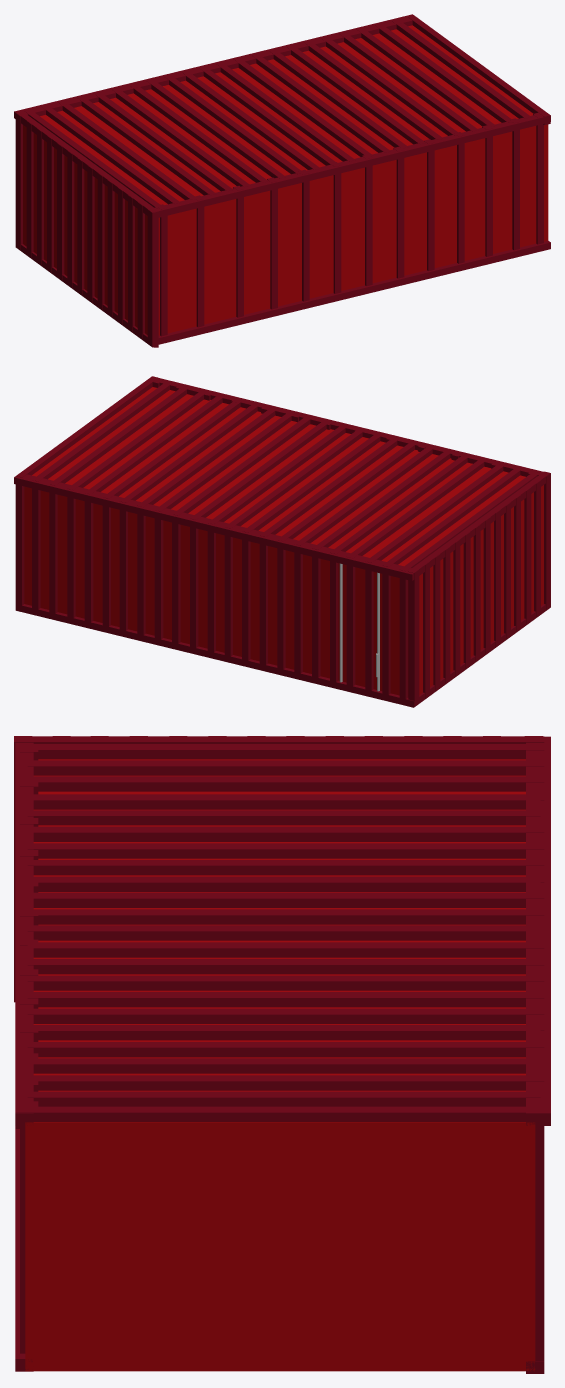
The model's file is MetalBridge.fbx.
3 renders of one model, top to bottom at view 1: azimuth 30°, elevation 25°; view 2: azimuth 150°, elevation 25°; view 3: azimuth 270°, elevation 25°, orthographic. The views are drawn at different scales.
Parts seen in each view (by area): view 1: Bridge, Bridge.002, Bridge.004, Bridge.001, Bridge.071, Bridge.045, Bridge.008, Bridge.076, Bridge.016, Bridge.009, Bridge.011, Bridge.080 (+44 smaller); view 2: Bridge, Bridge.001, Bridge.003, Bridge.002, Bridge.045, Bridge.047, Bridge.008, Bridge.009, Bridge.073, Bridge.010, Bridge.014, Bridge.011 (+55 smaller); view 3: Bridge, Bridge.045, Bridge.006, Bridge.008, Bridge.014, Bridge.016, Bridge.012, Bridge.010, Bridge.074, Bridge.076, Bridge.078, Bridge.079 (+18 smaller).
Part boxes in pixels (x1,y1,x2,y2): Bridge: (23, 25, 548, 335); Bridge.002: (154, 115, 550, 217); Bridge.004: (158, 240, 550, 344); Bridge.001: (14, 14, 413, 118); Bridge.071: (147, 209, 158, 347); Bridge.045: (408, 15, 550, 125); Bridge.008: (81, 97, 216, 195); Bridge.076: (305, 43, 443, 139); Bridge.016: (218, 65, 355, 161); Bridge.009: (98, 95, 233, 191); Bridge.011: (132, 87, 268, 182); Bridge.080: (396, 21, 531, 118); Bridge: (24, 387, 543, 697); Bridge.001: (14, 474, 414, 580); Bridge.003: (15, 604, 408, 706); Bridge.002: (158, 378, 543, 476); Bridge.045: (16, 376, 158, 477); Bridge.047: (408, 569, 419, 706); Bridge.008: (348, 459, 485, 555); Bridge.009: (331, 455, 468, 551); Bridge.073: (177, 416, 311, 513); Bridge.010: (317, 451, 451, 548); Bridge.014: (247, 434, 381, 531); Bridge.011: (299, 446, 433, 544); Bridge: (25, 759, 535, 1371); Bridge.045: (15, 1106, 544, 1128); Bridge.006: (27, 760, 540, 775); Bridge.008: (27, 794, 540, 809); Bridge.014: (27, 892, 540, 907); Bridge.016: (27, 925, 540, 940); Bridge.012: (27, 860, 540, 875); Bridge.010: (27, 826, 525, 841); Bridge.074: (27, 975, 525, 990); Bridge.076: (27, 1008, 525, 1023); Bridge.078: (27, 1042, 540, 1057); Bridge.079: (27, 1058, 525, 1073).
Size of the model in its own units: 1138 by 373 by 686.
